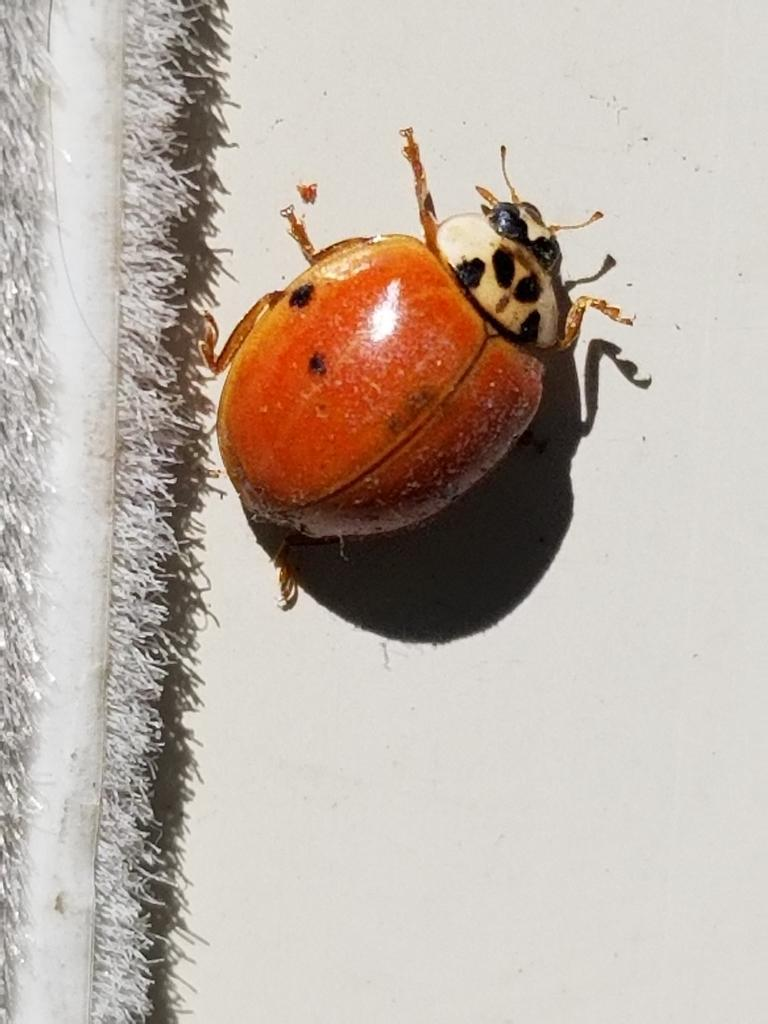ladybug: (204, 124, 639, 614)
